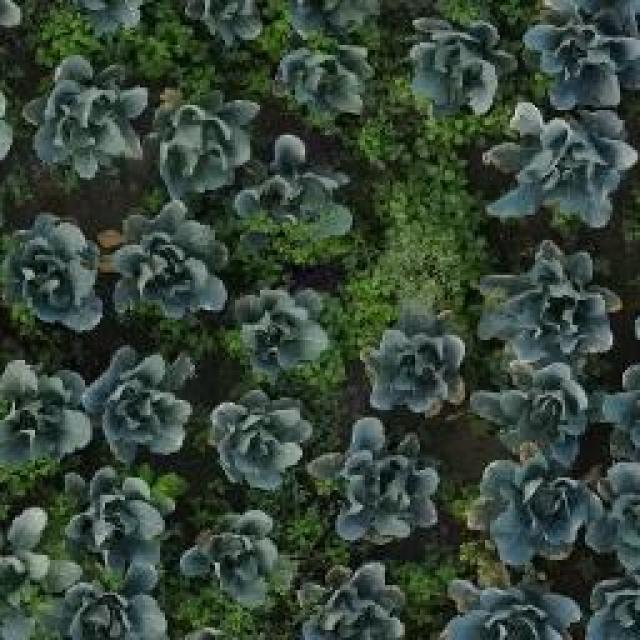cabbage: (498, 103, 640, 239), (476, 240, 622, 367), (21, 55, 149, 182), (467, 452, 602, 567), (314, 418, 438, 540), (110, 195, 230, 321), (0, 208, 112, 338), (89, 339, 199, 468), (468, 356, 594, 467), (522, 0, 640, 110), (57, 462, 179, 566), (234, 133, 348, 244), (147, 77, 260, 188), (358, 304, 469, 415), (0, 345, 95, 473), (205, 388, 316, 493), (181, 504, 294, 606), (405, 12, 515, 116), (42, 555, 172, 640), (228, 279, 334, 381), (436, 567, 580, 640), (291, 556, 413, 640), (269, 31, 373, 121)
